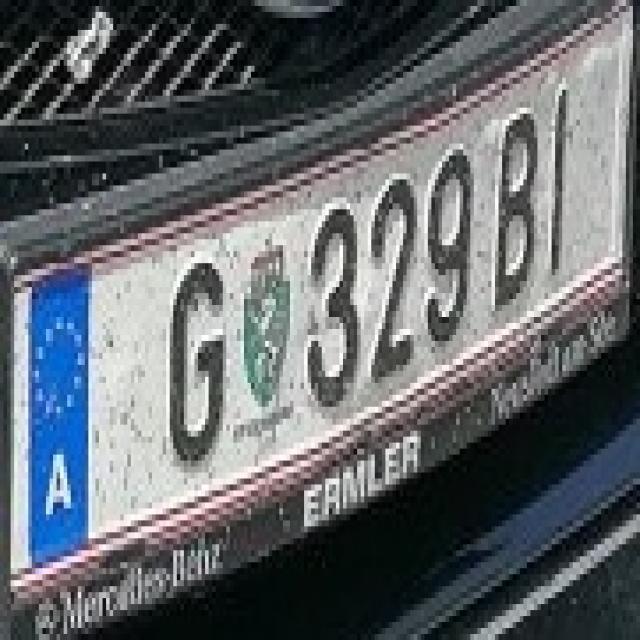1: (534, 59, 590, 276)
2: (357, 156, 417, 377)
3: (297, 186, 364, 407)
8: (481, 96, 541, 306)
9: (410, 132, 478, 342)
G: (156, 245, 233, 460)
